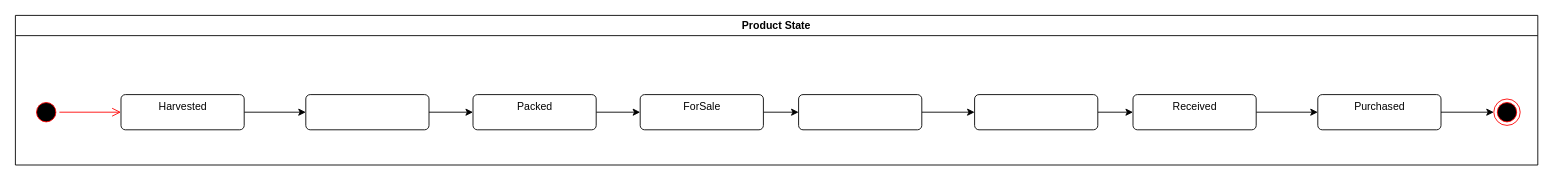
This 1553x180 diagram has some shape labels left out. Each missing label, with the centre of its shape:
Processed: the point at 367,112
Shipped: the point at 1036,112
Sold: the point at 860,112
